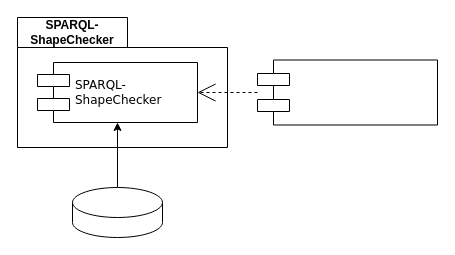
Some shapes in this 455 by 255 pixel diagram are drawn without their labels. Each missing label, with the box of its shape:
GraphDB: (72, 186, 162, 238)
QSE - QueryBased: (256, 59, 438, 125)
